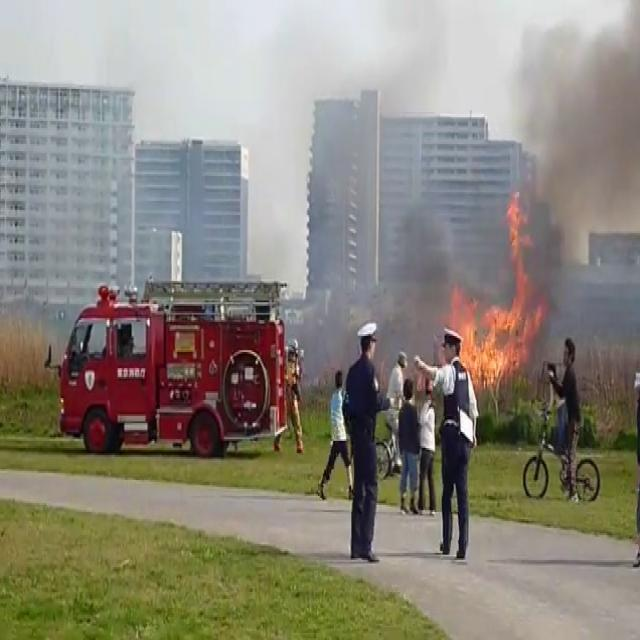Fire: (451, 204, 545, 383)
Smoke: (469, 0, 640, 324)
